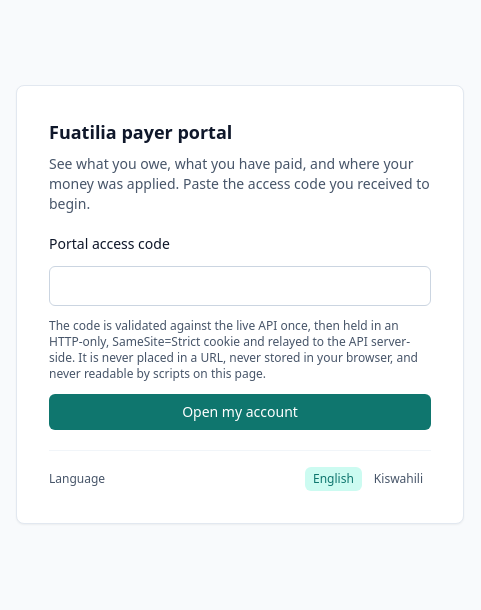
Test: PortalGate › renders an honest unreachable state on transport failure — no fake acceptance
The width and height of the screenshot is (481, 610).
Type "0f1e2d3c-4b5a-4968-8776-6554433221ff" into the password field labelled "Portal access code". click: coordinates (240, 286)
box: [49,266,431,306]
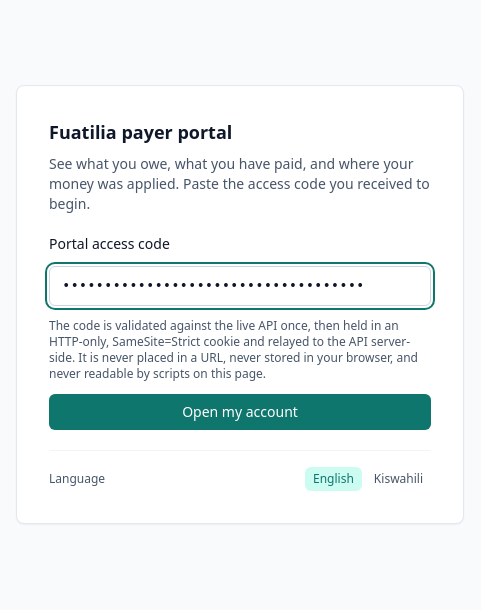
Click the button "Open my account". click: coordinates (240, 412)
box: [49,394,431,430]
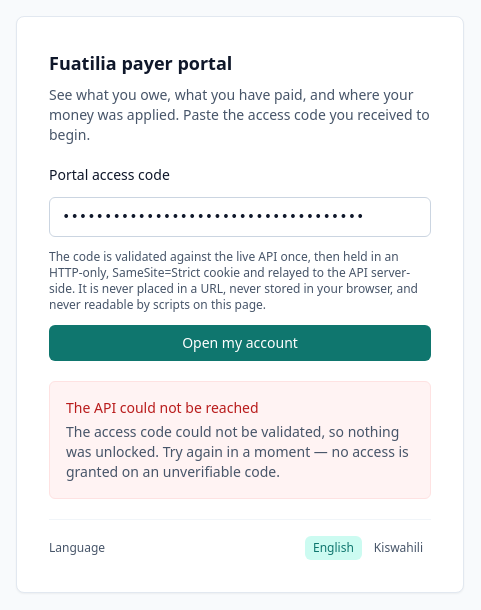
Expected: the message with test id "gate-unreachable" shows "The API could not be reached", [66,398,259,416]
Expected: the message with test id "gate-unreachable" shows "no access is granted on an unverifiable code", [66,422,409,480]
